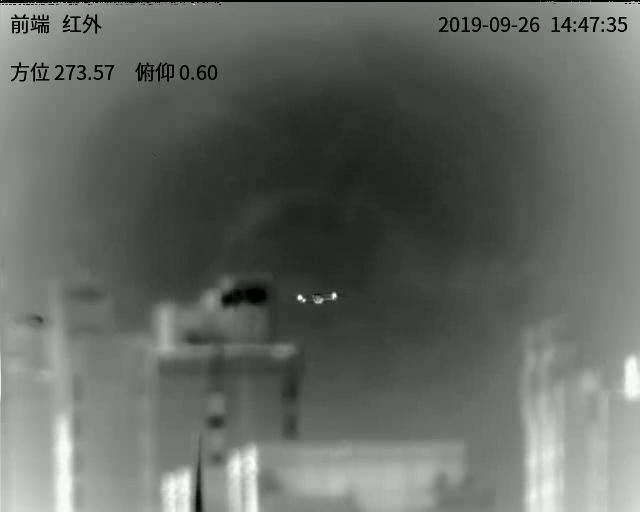DRONE: (294, 290, 339, 305)
